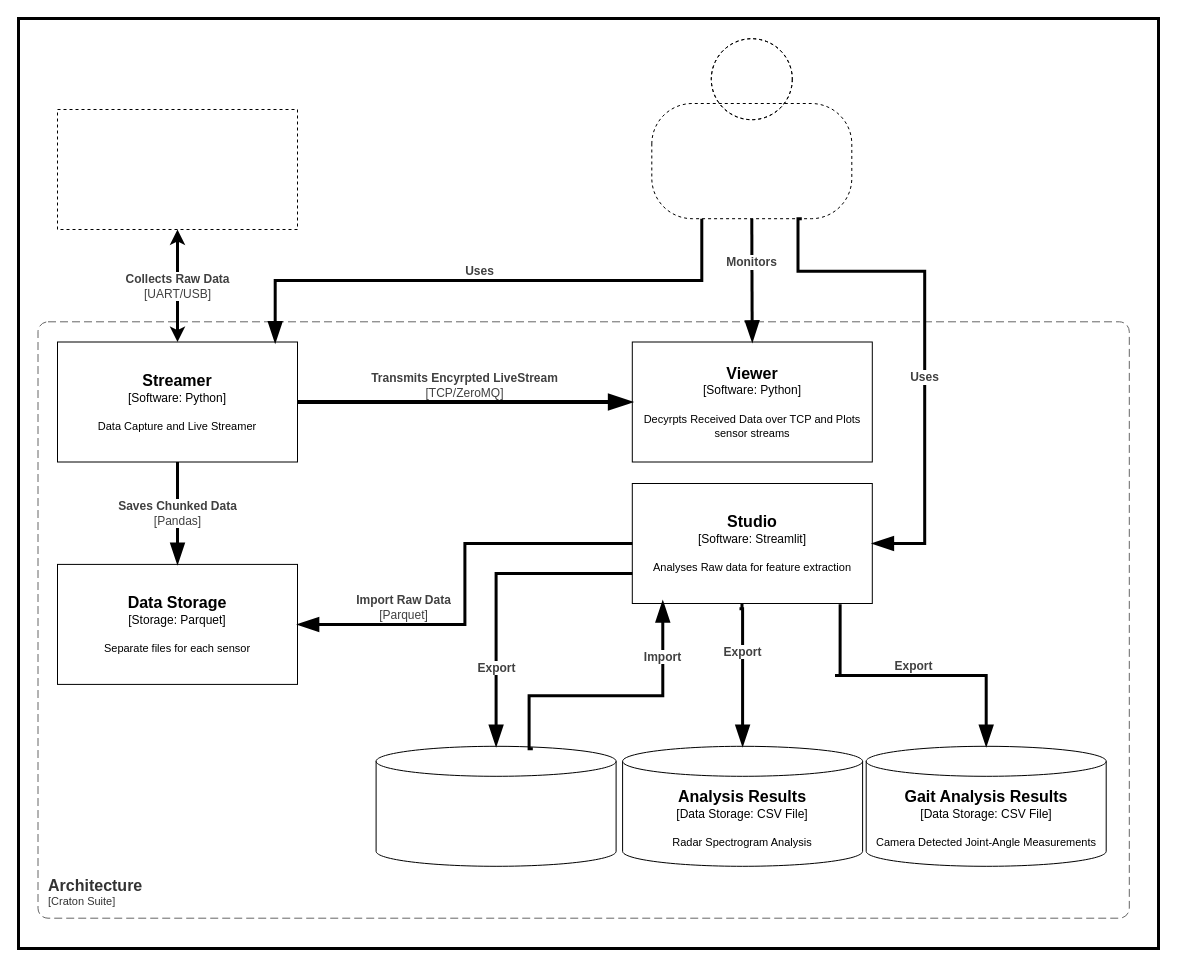
The diagram is 1177 pixels wide and 967 high, and some of its shapes have lost their labels. The shapes that lost their labels are listed below. From the top down, each one's box as (x1, y1, x2, y2) in pixels, then its label:
(651, 38, 852, 219): User [Person] Researcher
(56, 108, 298, 230): Sensors [Hardware] Camera and Radar sensors
(375, 745, 616, 866): Preprocessed Data [Data Storage: CSV File] Interpolated/Normalized Dataset
